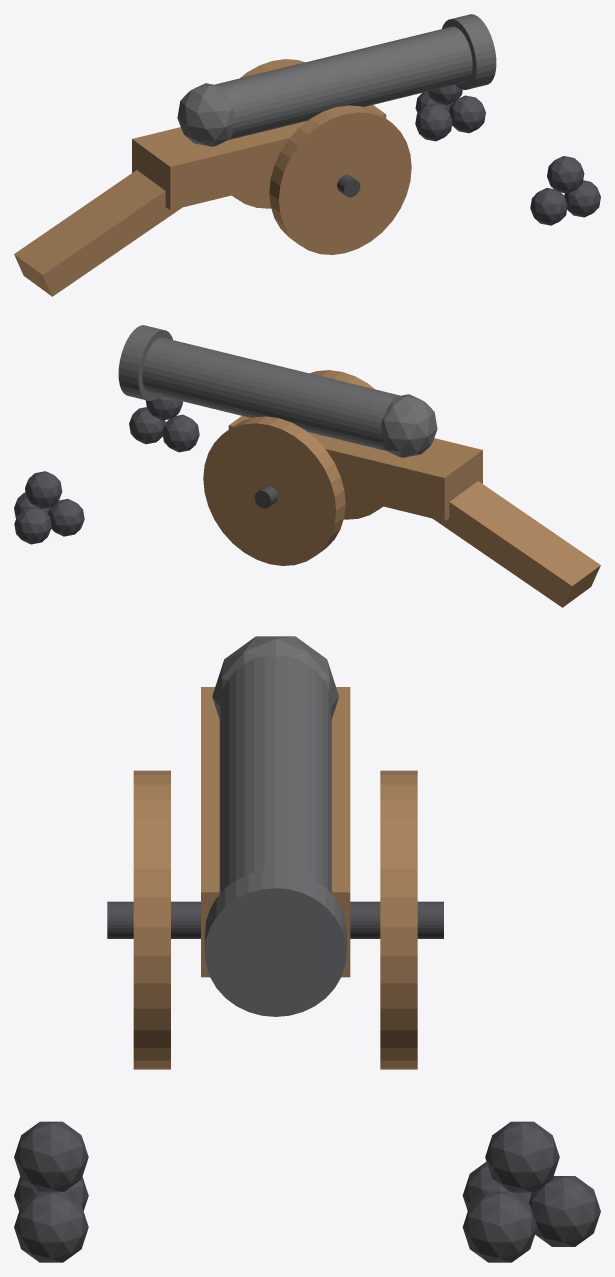
The model's file is cannon.glb.
The picture shows the model from 3 angles, top to bottom: view 1: azimuth 30°, elevation 25°; view 2: azimuth 150°, elevation 25°; view 3: azimuth 270°, elevation 25°; orthographic projection. The views are drawn at different scales.
Parts seen in each view (by area): view 1: Cannon; view 2: Cannon; view 3: Cannon.
Part boxes in pixels (x1,y1,x2,y2): Cannon: (14,14,600,296); Cannon: (14,325,600,607); Cannon: (14,636,600,1262).
Bounding box in the file's own units: 3.08 × 0.97 × 1.57.
